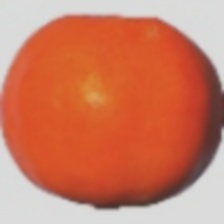tangerine: (31, 25, 184, 224)
